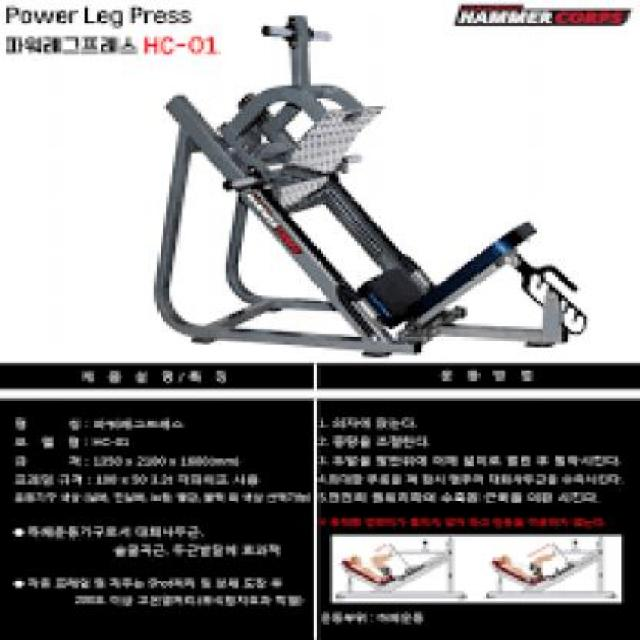leg press: (117, 14, 594, 361)
